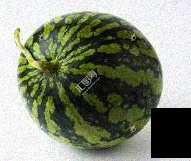watermelon: (11, 12, 162, 151)
